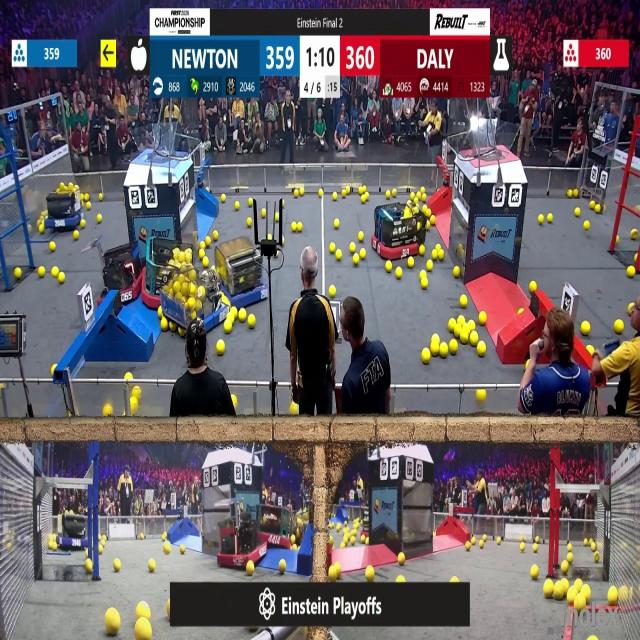ball_ground: (106, 611, 120, 637), (137, 621, 151, 640), (137, 602, 150, 618), (607, 588, 617, 606), (554, 584, 565, 600), (543, 582, 552, 600), (574, 596, 585, 610), (328, 565, 338, 580), (584, 586, 592, 604), (364, 566, 374, 580), (567, 588, 575, 604), (216, 341, 225, 355), (422, 348, 430, 363), (468, 333, 477, 346), (478, 343, 486, 357), (582, 321, 590, 335), (290, 404, 298, 418), (441, 344, 449, 358), (616, 320, 624, 333), (246, 562, 254, 575), (561, 561, 569, 574), (454, 326, 462, 339), (531, 565, 538, 579), (87, 560, 94, 574), (223, 321, 231, 333), (478, 389, 486, 401), (104, 406, 112, 418), (238, 310, 246, 322), (451, 341, 458, 354), (248, 315, 255, 328), (460, 294, 467, 307), (162, 318, 169, 331), (148, 560, 155, 573), (328, 285, 335, 297), (479, 313, 486, 325), (59, 272, 66, 284), (279, 560, 286, 572), (628, 267, 635, 279), (397, 554, 404, 566), (449, 319, 456, 331), (430, 344, 438, 354), (114, 559, 120, 571), (396, 268, 402, 280), (14, 268, 20, 280), (409, 256, 415, 268), (337, 249, 343, 261), (457, 316, 465, 325), (563, 577, 569, 589), (353, 254, 360, 264), (38, 268, 45, 278), (421, 280, 428, 290), (203, 256, 210, 266), (588, 346, 595, 356), (227, 312, 234, 322), (574, 578, 581, 588), (530, 281, 536, 292), (454, 268, 460, 279), (233, 395, 239, 406), (451, 575, 459, 583), (431, 335, 438, 344), (420, 271, 427, 280), (361, 192, 368, 201), (471, 322, 478, 331), (572, 188, 579, 197), (427, 262, 433, 272), (165, 542, 171, 552), (49, 242, 55, 252), (538, 214, 544, 224), (386, 263, 392, 273), (38, 223, 44, 233), (359, 249, 365, 259), (51, 268, 57, 278), (431, 250, 437, 260), (350, 243, 356, 253), (328, 243, 334, 253), (440, 250, 446, 260), (335, 218, 341, 228), (628, 304, 634, 314), (396, 575, 404, 582), (49, 541, 56, 549), (205, 239, 212, 247), (262, 209, 268, 218), (595, 205, 601, 214), (631, 231, 637, 240), (350, 536, 356, 545), (290, 535, 296, 544), (298, 187, 304, 196), (425, 208, 431, 217), (585, 220, 590, 230), (247, 217, 252, 227), (213, 230, 218, 240), (591, 202, 596, 212), (546, 214, 552, 222), (291, 222, 297, 230), (248, 200, 254, 208), (178, 328, 184, 336), (220, 193, 226, 201), (567, 554, 573, 562), (331, 191, 337, 199), (318, 189, 324, 197), (127, 373, 133, 381), (422, 194, 428, 202), (293, 188, 299, 196), (420, 246, 425, 255), (74, 232, 79, 241), (574, 208, 579, 217), (236, 202, 241, 211), (358, 233, 363, 242), (567, 188, 572, 197), (180, 544, 185, 552), (99, 192, 104, 200), (465, 541, 470, 549), (99, 545, 104, 553), (276, 212, 280, 222), (296, 222, 301, 230), (88, 202, 93, 210), (200, 250, 205, 258), (430, 216, 435, 224), (361, 536, 366, 544), (201, 241, 206, 249), (386, 190, 391, 198), (634, 254, 639, 262), (521, 542, 525, 551), (534, 536, 540, 542), (341, 541, 346, 548), (470, 537, 475, 544), (567, 543, 572, 550), (80, 219, 84, 227), (497, 536, 501, 544), (269, 234, 273, 242), (84, 549, 88, 557), (426, 222, 430, 230), (392, 188, 396, 196), (617, 237, 621, 245), (291, 543, 296, 549), (140, 533, 145, 539), (483, 534, 488, 540), (98, 215, 102, 222), (536, 546, 540, 553), (517, 306, 521, 313), (481, 540, 485, 547), (281, 201, 285, 208), (164, 532, 168, 539), (590, 636, 597, 640), (585, 538, 589, 545), (436, 242, 440, 248)
goal: (464, 122, 522, 160), (129, 128, 189, 160)
robot_blue: (165, 266, 229, 331), (220, 238, 268, 308), (48, 182, 85, 232), (58, 512, 88, 549)
robot_red: (372, 195, 424, 260), (218, 507, 270, 569), (103, 246, 143, 304), (260, 506, 298, 548)
